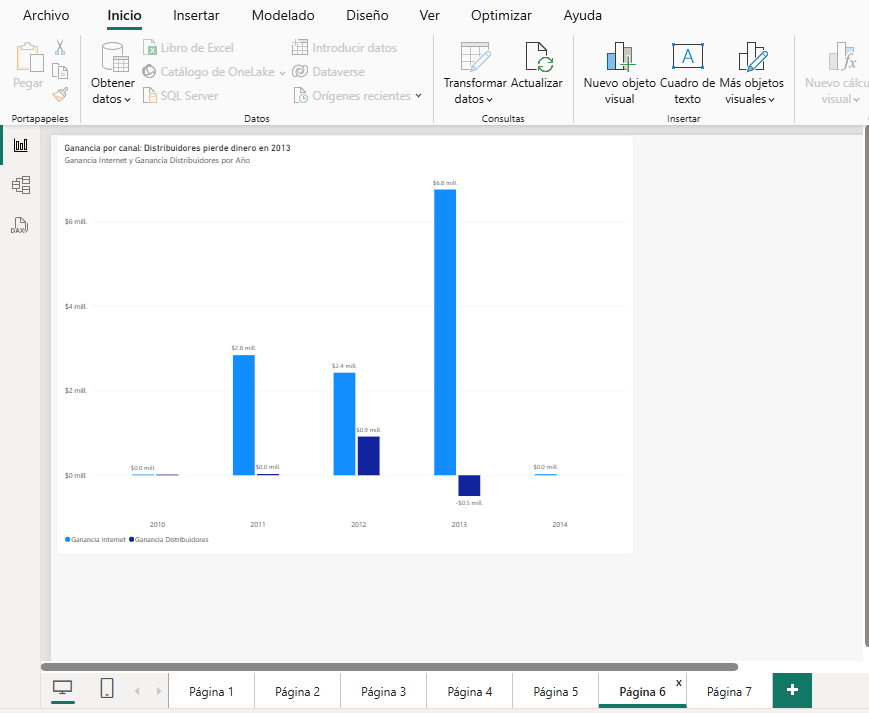

Layout of this report page (visuals, bound fields, positions):
{"tool":"powerbi","page":{"name":"Página 6","canvas":[1920,1080],"ordinal":5},"visuals":[{"type":"clusteredColumnChart","title":"Ganancia por canal: Distribuidores pierde dinero en 2013","fields":{"Category":["Fecha de Pedido.Calendar Year"],"Y":["Fact Internet Sales.Ganancia Internet","Fact Reseller Sales.Ganancia Distribuidores"]},"box":[10,0,1156,840],"z":0}]}

Visuals, with their boxes on the page's 1920x1080 design canvas (x1, y1, x2, y2). These are canvas units, not pixel positions in the 869x713 screenshot, which may show the page scaled, cropped or inside an application window:
"Ganancia por canal: Distribuidores pierde dinero en 2013" clusteredColumnChart: <region>10, 0, 1166, 840</region>
